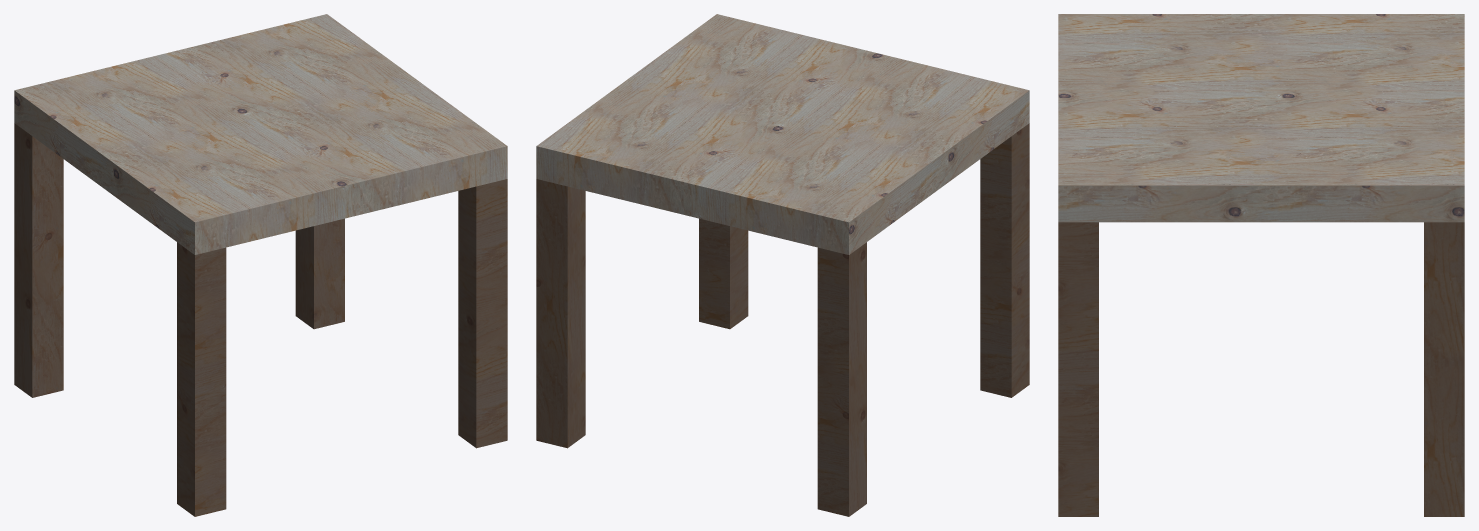
File: table.fbx
3 renders of one model, left to right at view 1: azimuth 30°, elevation 25°; view 2: azimuth 150°, elevation 25°; view 3: azimuth 270°, elevation 25°, orthographic. The views are drawn at different scales.
Visible parts, largest first — view 1: Cube; view 2: Cube; view 3: Cube.
Boxes of the visible parts, x1,y1,x2,y2 form: Cube: [14, 14, 507, 516]; Cube: [536, 14, 1029, 516]; Cube: [1058, 14, 1464, 516].
Bounding box in the file's own units: 100 × 90 × 100.
